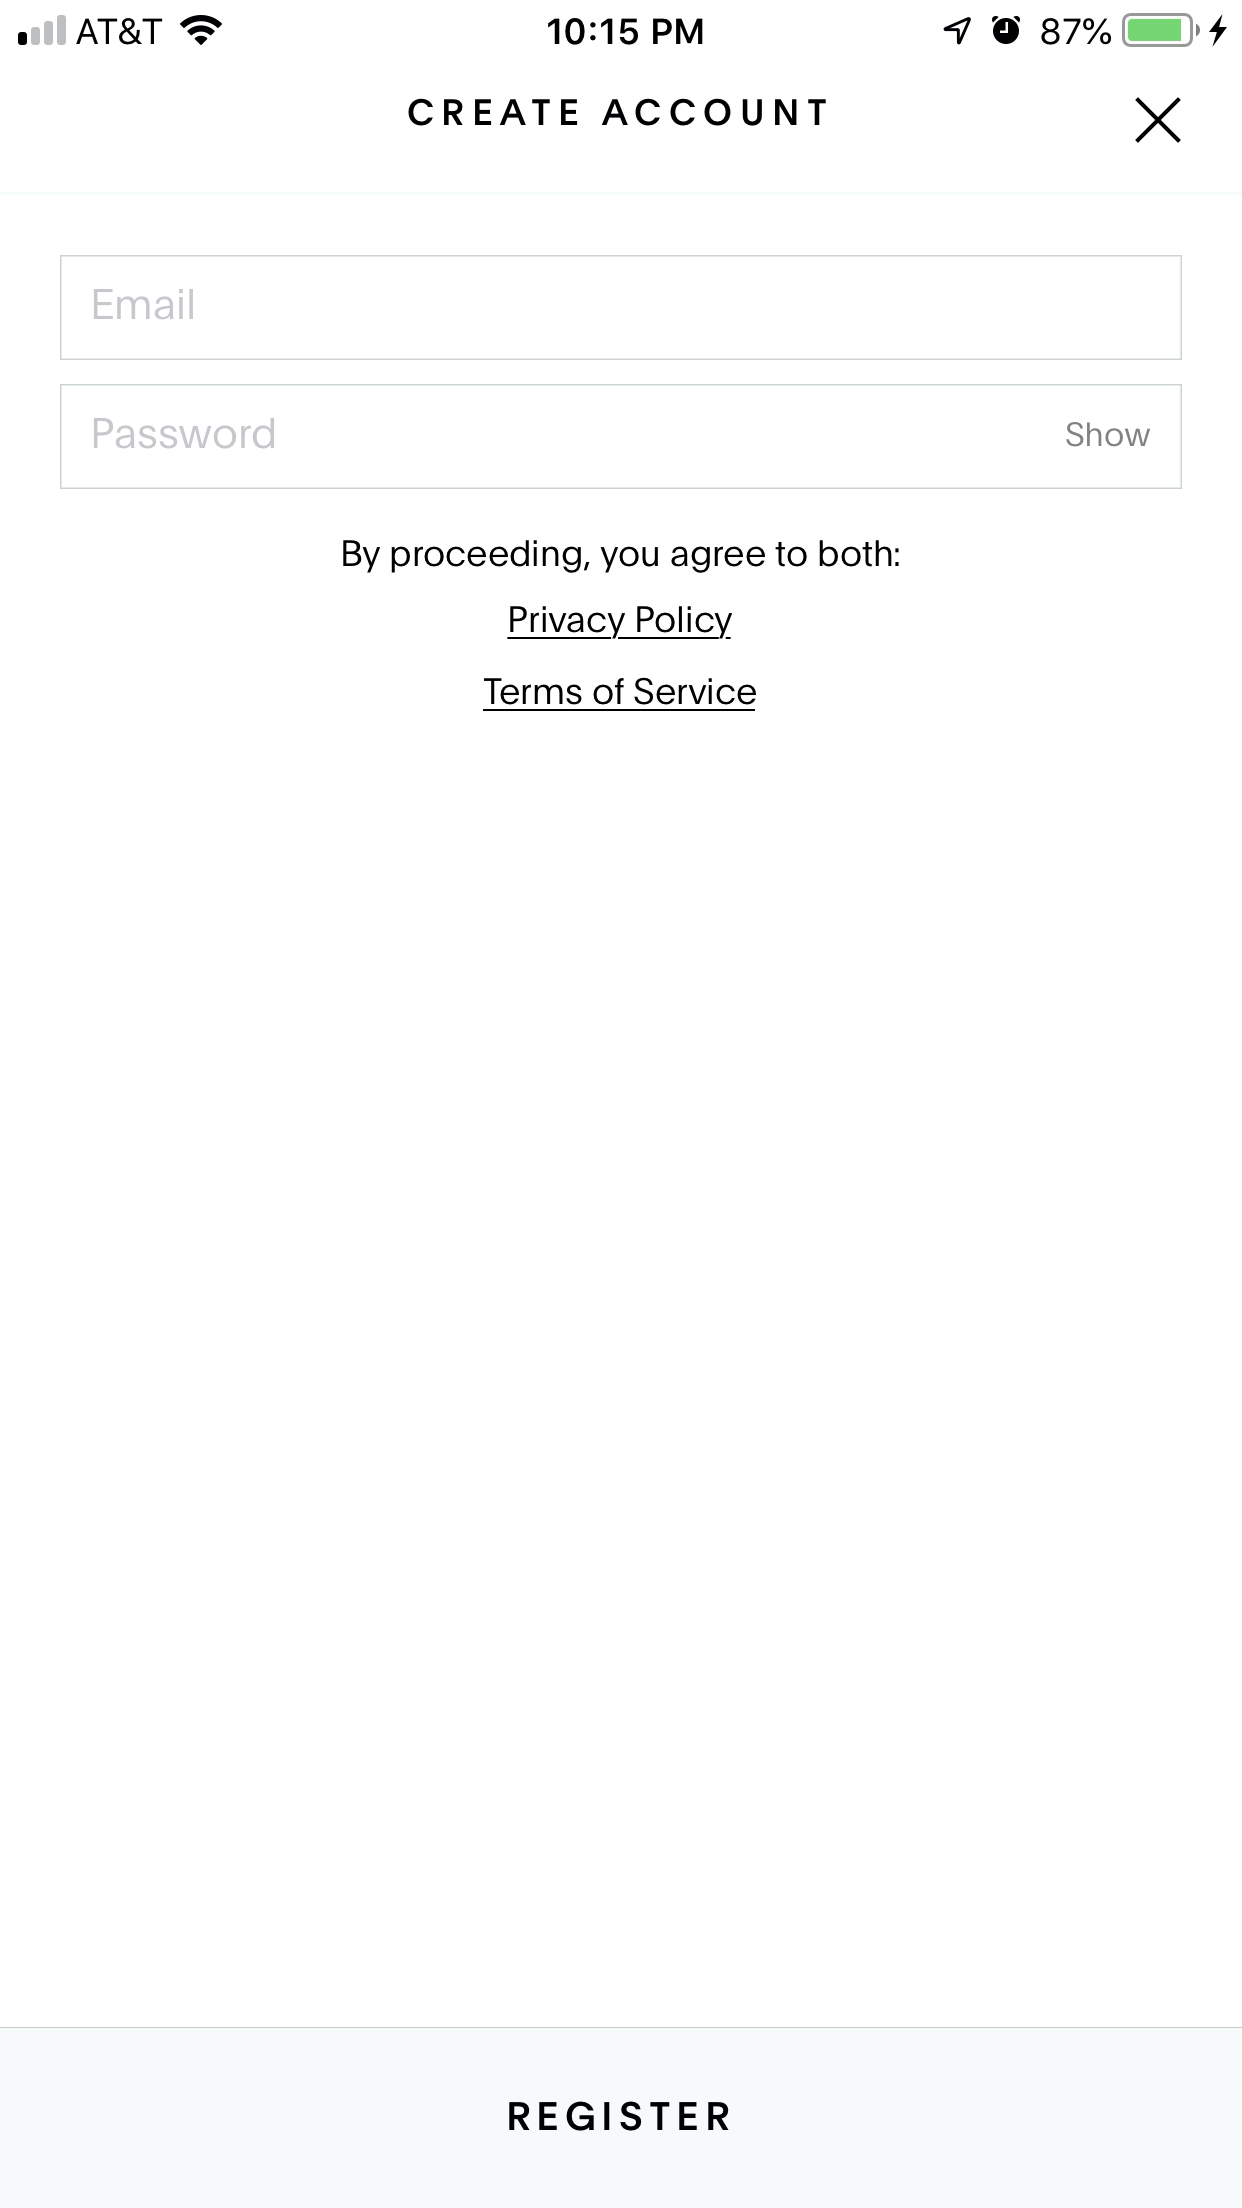EditText: (61, 385, 1181, 490), (61, 256, 1181, 361)
Icon: (1134, 96, 1181, 144)
Text: (343, 538, 899, 575), (408, 100, 826, 127), (482, 678, 757, 713), (508, 607, 734, 641), (94, 419, 274, 450), (94, 290, 194, 321), (1066, 422, 1149, 447)
TextButton: (2, 2028, 1242, 2208)
UpperTaskBar: (2, 2, 1242, 49)
